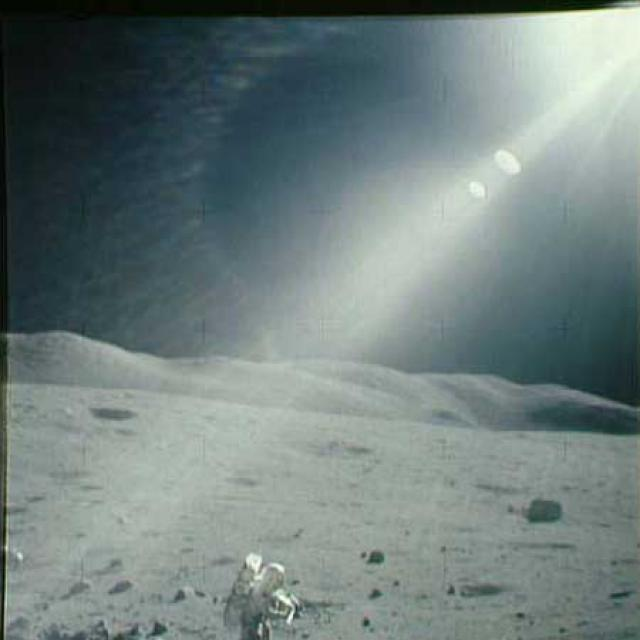crater: (286, 428, 373, 462), (448, 574, 509, 598), (86, 404, 137, 423), (46, 463, 90, 484), (223, 474, 262, 490)
rock: (523, 488, 562, 524), (61, 574, 92, 602), (100, 547, 125, 574), (105, 577, 135, 597), (369, 543, 387, 566)
